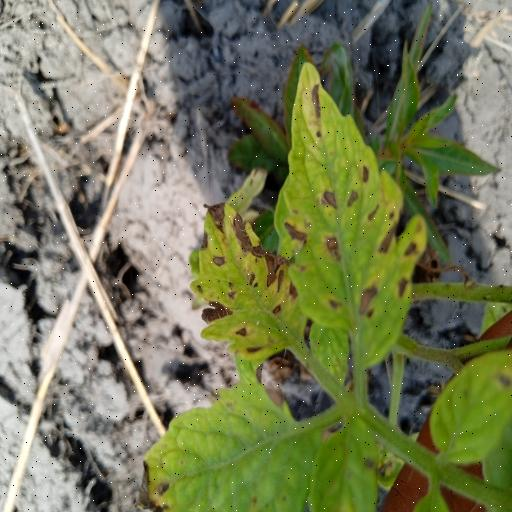Tomato_Brown_Spots: (269, 54, 427, 380), (134, 376, 340, 512), (194, 191, 312, 372)
